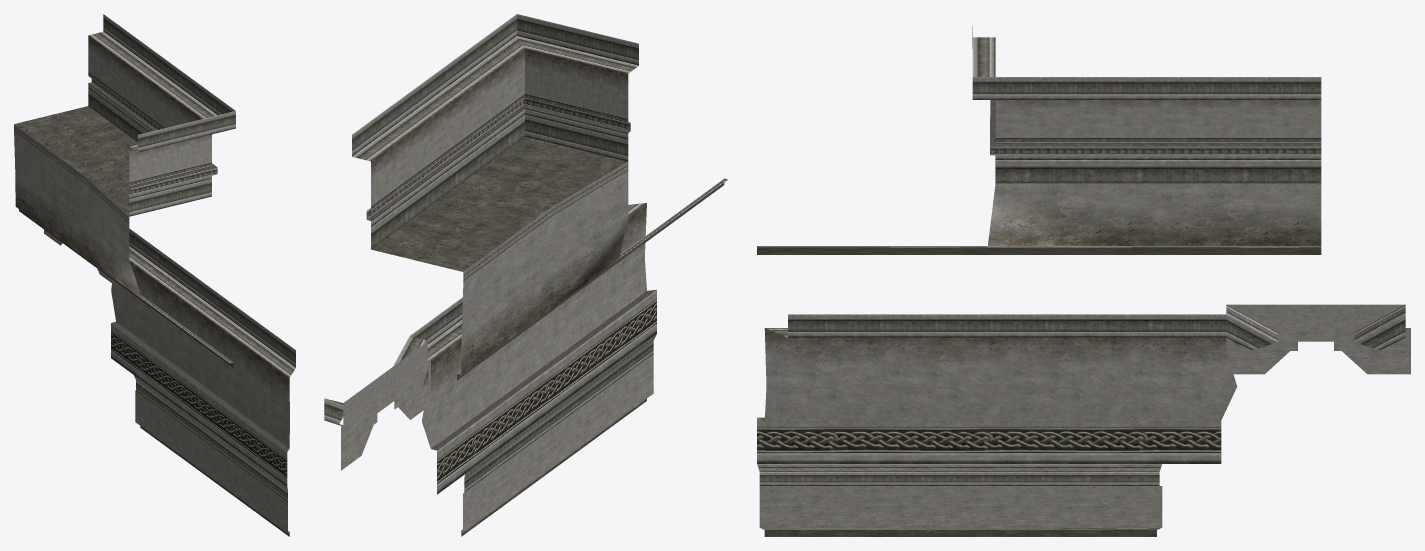
The model's file is DWARF_PALACE_FORGE_WALL01B01.fbx.
3 views of the same model, side by side, from view 1: azimuth 30°, elevation 25°; view 2: azimuth 150°, elevation 25°; view 3: azimuth 270°, elevation 25° (orthographic). The views are drawn at different scales.
Parts seen in each view (by area): view 1: DWARF_PALACE_FORGE_WALL01B01; view 2: DWARF_PALACE_FORGE_WALL01B01; view 3: DWARF_PALACE_FORGE_WALL01B01.
Boxes of the visible parts, <box> form: DWARF_PALACE_FORGE_WALL01B01: <box>14,14,295,536</box>; DWARF_PALACE_FORGE_WALL01B01: <box>324,14,728,536</box>; DWARF_PALACE_FORGE_WALL01B01: <box>757,26,1410,536</box>.
Size of the model in its own units: 58089 by 205000 by 255004.
7 materials, 7 textured.
